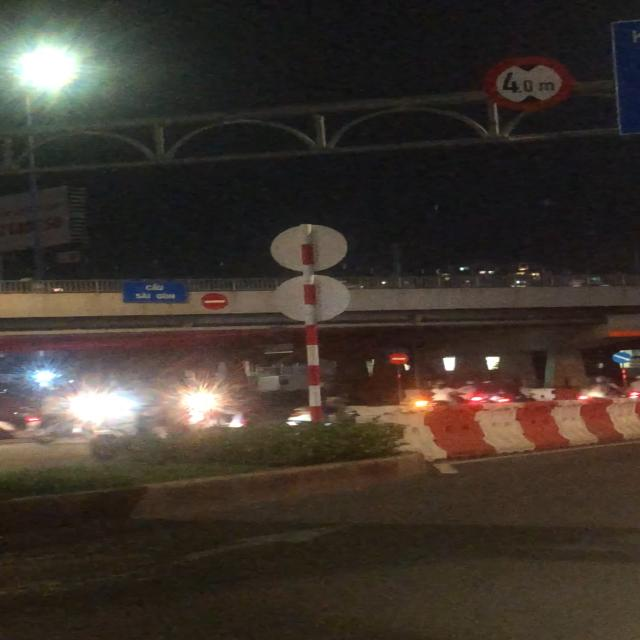Bien bao cam di nguoc chieu: (198, 292, 232, 311), (386, 352, 410, 365)
Bien bao huong phai di vong chuong ngai vat: (610, 351, 634, 365)
